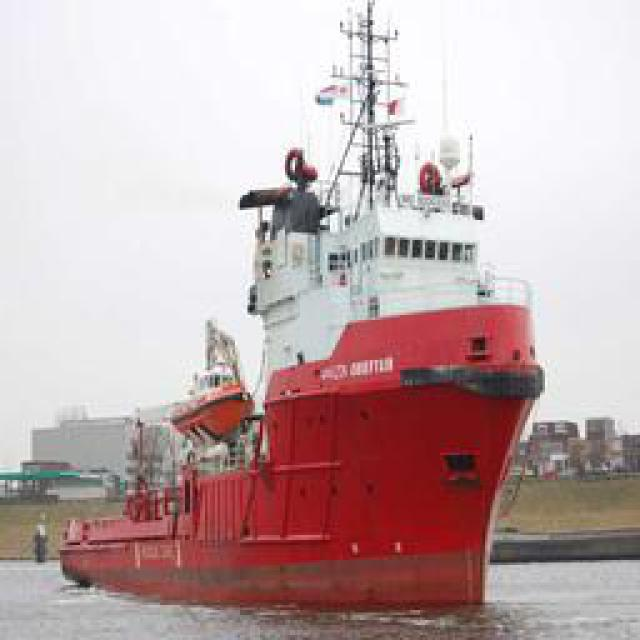Ship: (88, 1, 533, 619)
